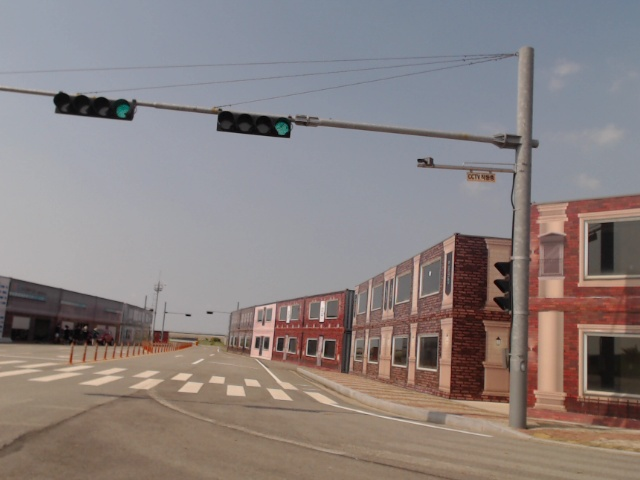straight_green_4: (216, 111, 290, 138), (56, 94, 137, 118)
